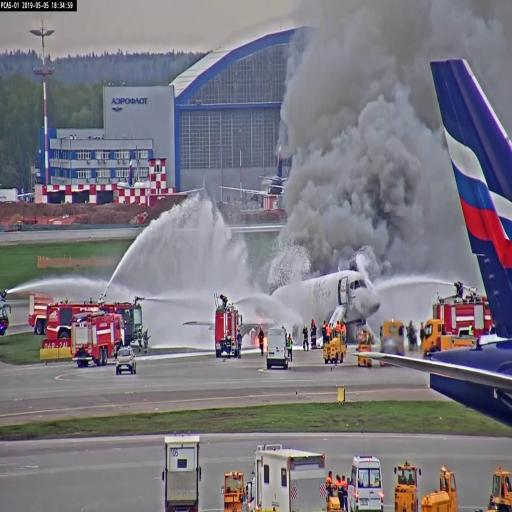smoke: (280, 0, 404, 231)
